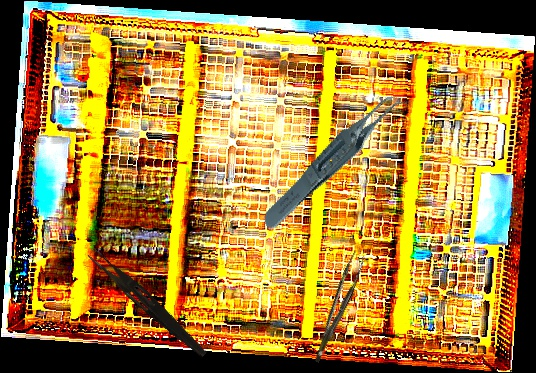Dressing Forceps: (83, 247, 213, 360)
Tissue Forceps: (241, 87, 433, 233), (301, 251, 372, 363)
